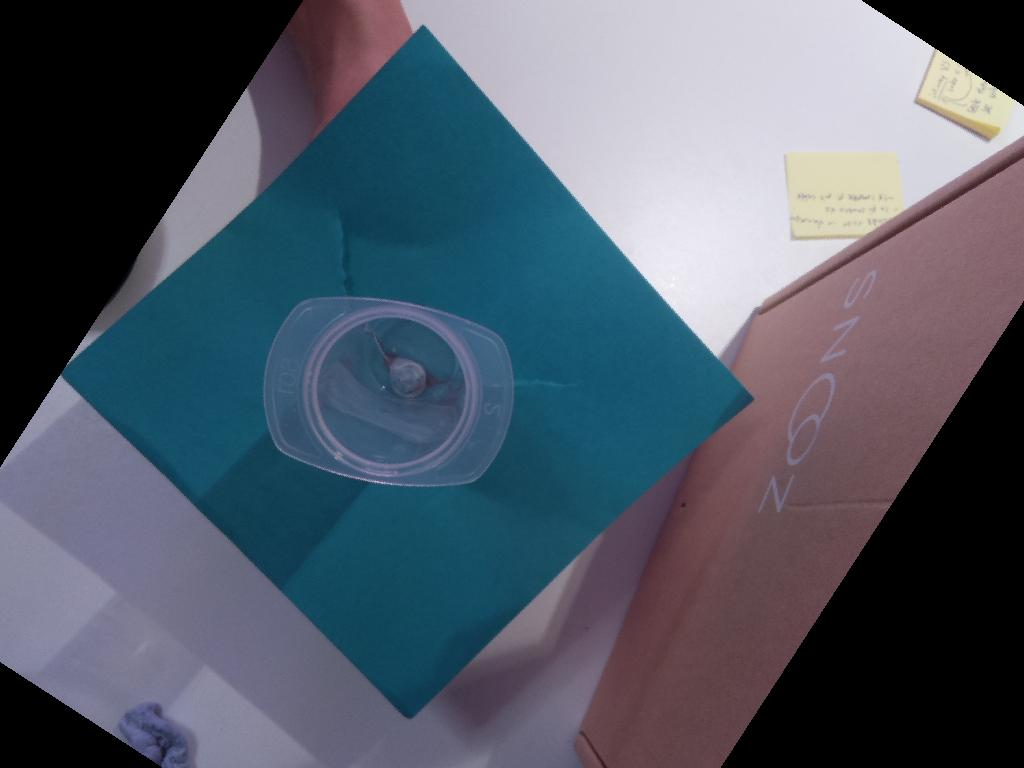clean: (261, 293, 517, 488)
